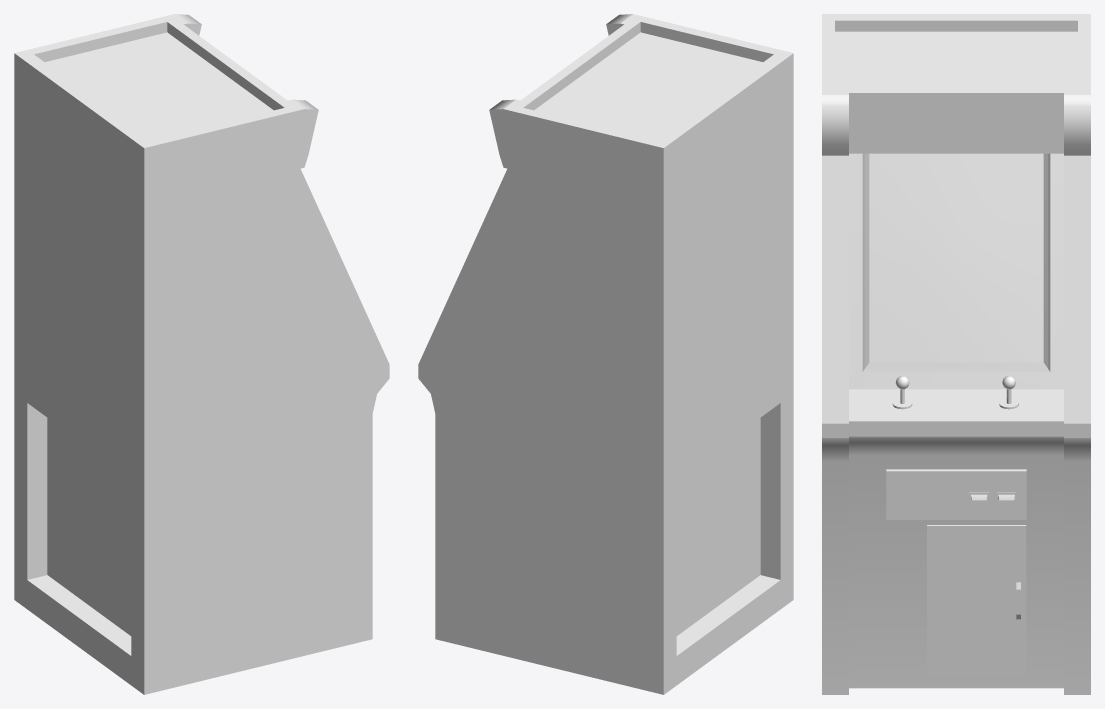
The model's file is Arcade Sunset.glb.
The picture shows the model from 3 angles, left to right: view 1: azimuth 30°, elevation 25°; view 2: azimuth 150°, elevation 25°; view 3: azimuth 270°, elevation 25°; orthographic projection. The views are drawn at different scales.
Visible parts, largest first — view 1: Cube.034; view 2: Cube.034; view 3: Cube.034.
Boxes of the visible parts, left/top/right/bottom form: Cube.034: left=14, top=14, right=389, bottom=694; Cube.034: left=418, top=14, right=793, bottom=694; Cube.034: left=822, top=14, right=1090, bottom=694.
Size of the model in its own units: 0.7077 by 1.51 by 0.6484.
6 materials, 1 textured.
